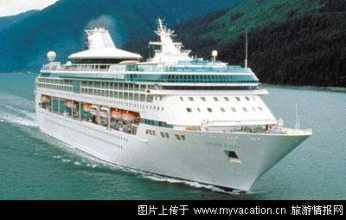youlun: (31, 28, 318, 193)
